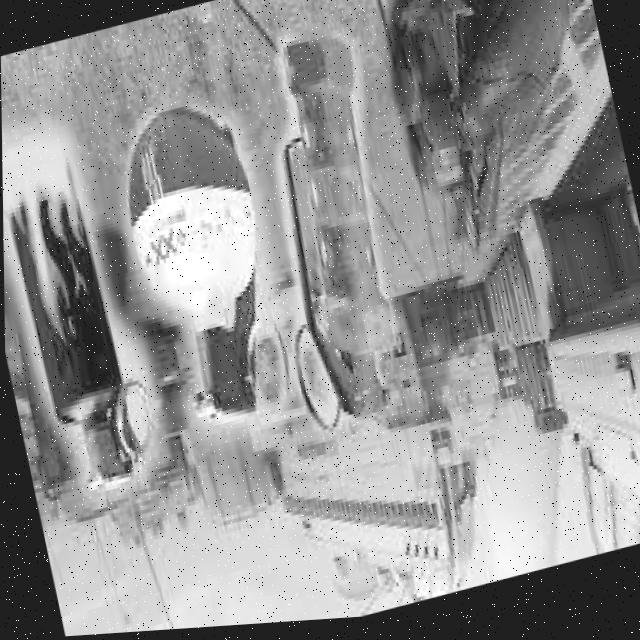grenade: (242, 24, 444, 458), (107, 89, 313, 467), (1, 117, 146, 505), (379, 0, 528, 279)
